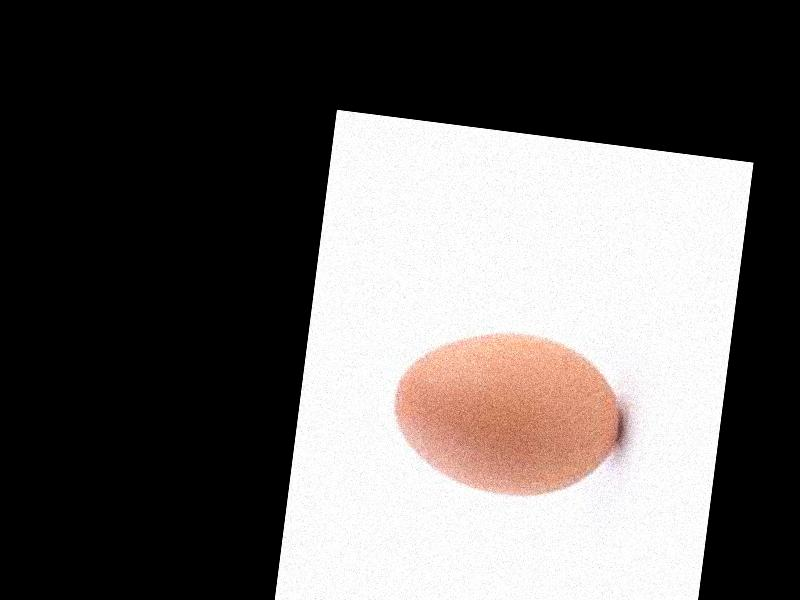Eggs: (382, 321, 628, 509)
